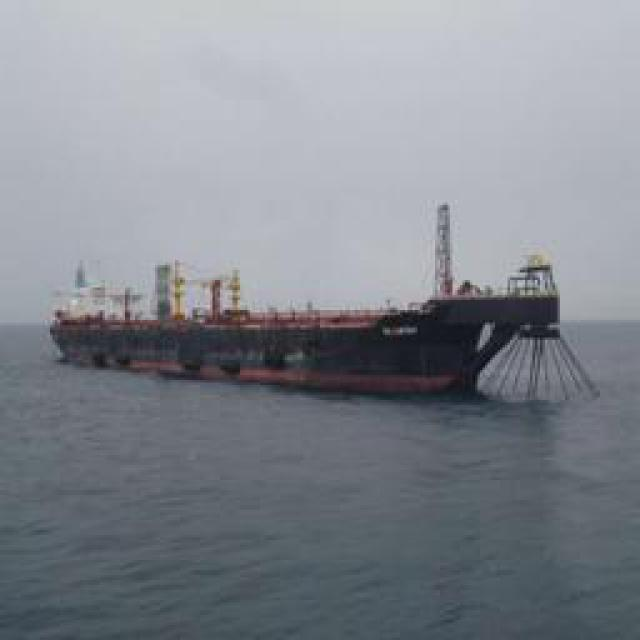Ship: (54, 226, 567, 403)
